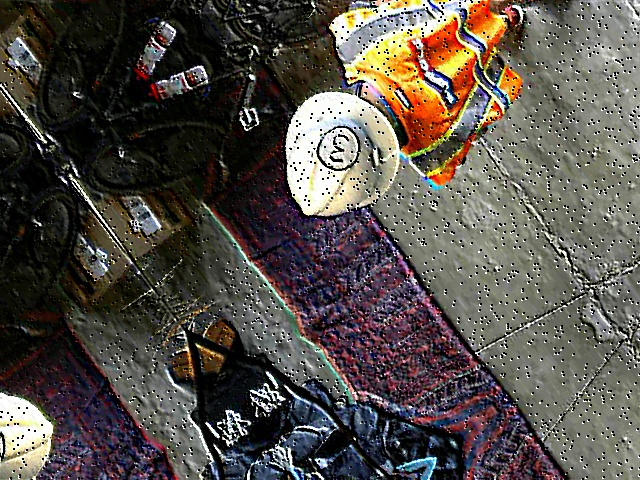three: (307, 118, 368, 182)
